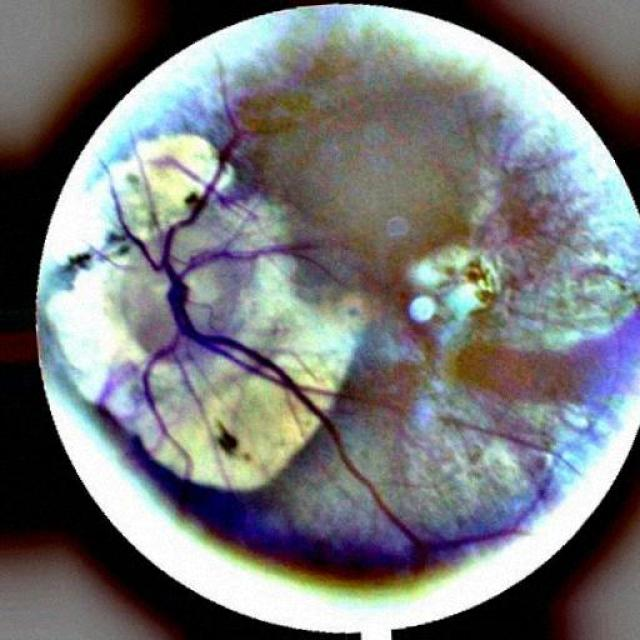Macula: (325, 280, 391, 333)
Nerves: (186, 333, 418, 545), (117, 163, 225, 287), (145, 290, 193, 484), (182, 243, 341, 286), (108, 172, 118, 207)
Optic Disk: (125, 231, 246, 361)
